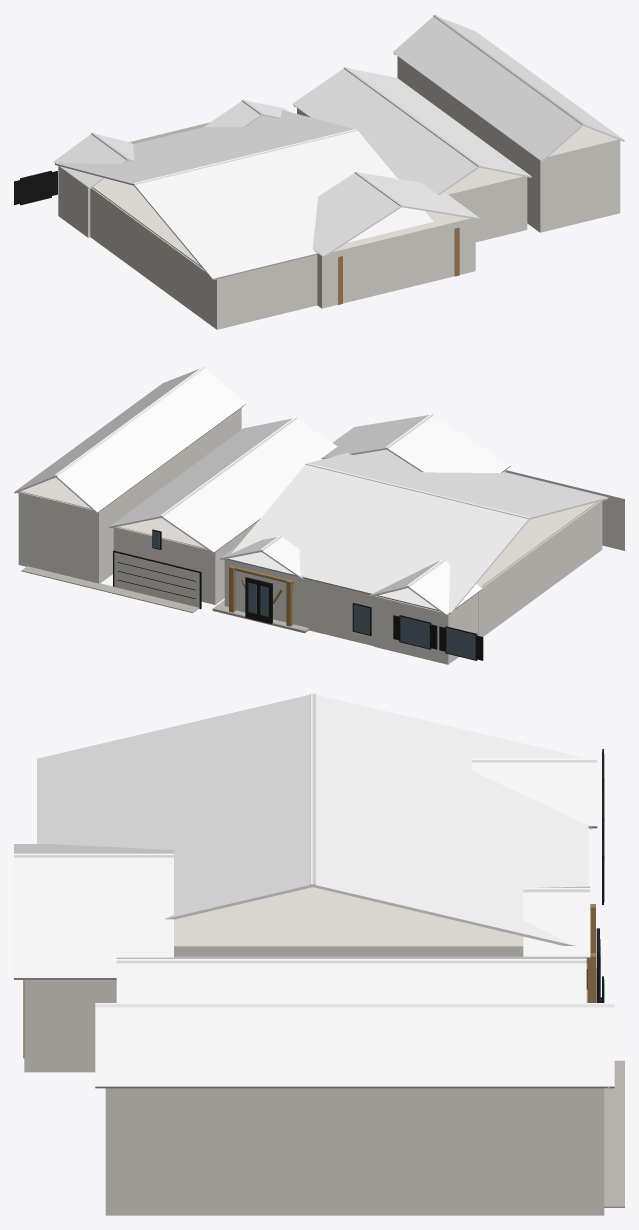
File: whitestone-front.glb
3 renders of one model, top to bottom at view 1: azimuth 30°, elevation 25°; view 2: azimuth 150°, elevation 25°; view 3: azimuth 270°, elevation 25°, orthographic. The views are drawn at different scales.
Parts seen in each view (by area): view 1: house-whitestone-front; view 2: house-whitestone-front; view 3: house-whitestone-front.
Part boxes in pixels (left/top/right/bottom): house-whitestone-front: left=14, top=14, right=624, bottom=329; house-whitestone-front: left=14, top=366, right=624, bottom=664; house-whitestone-front: left=14, top=693, right=624, bottom=1215.
Size of the model in its own units: 28.64 by 6 by 18.63.
